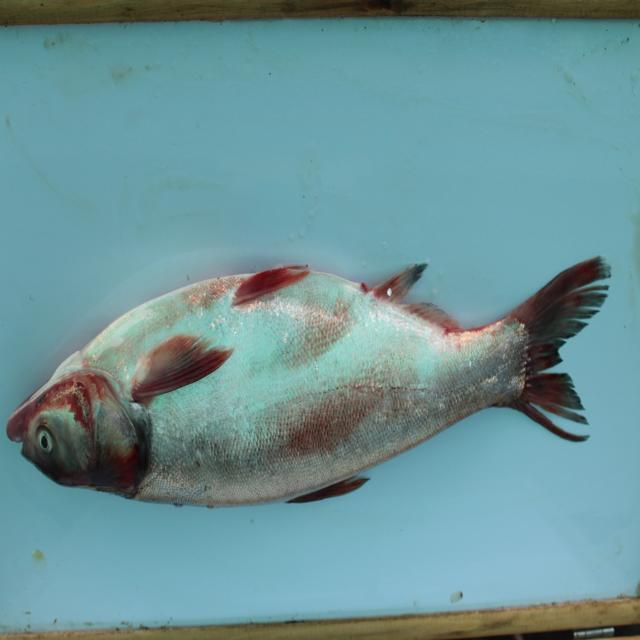SilverCarp: (4, 262, 639, 511)
